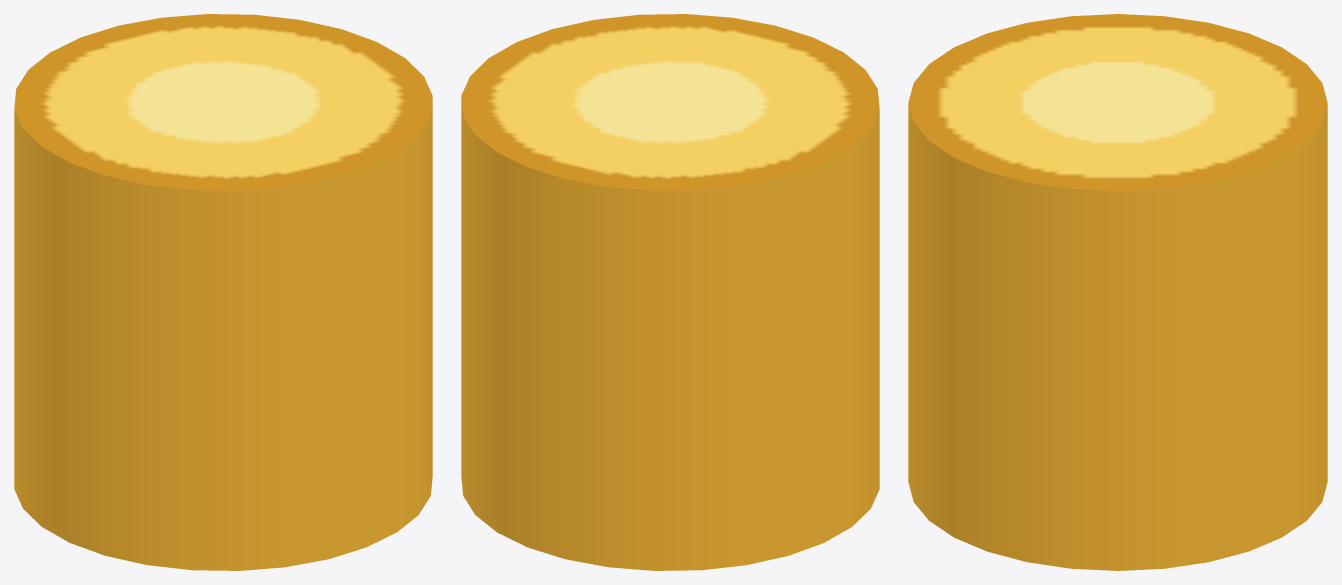
Rendered from coin.glb.
3 renders of one model, left to right at view 1: azimuth 30°, elevation 25°; view 2: azimuth 150°, elevation 25°; view 3: azimuth 270°, elevation 25°, orthographic.
Visible parts, largest first — view 1: plat; view 2: plat; view 3: plat.
Boxes of the visible parts, bbox=[...] form: plat: bbox=[14, 14, 432, 570]; plat: bbox=[461, 14, 879, 570]; plat: bbox=[908, 14, 1327, 570].
Size of the model in its own units: 1 by 1 by 1.
1 material, 1 textured.
